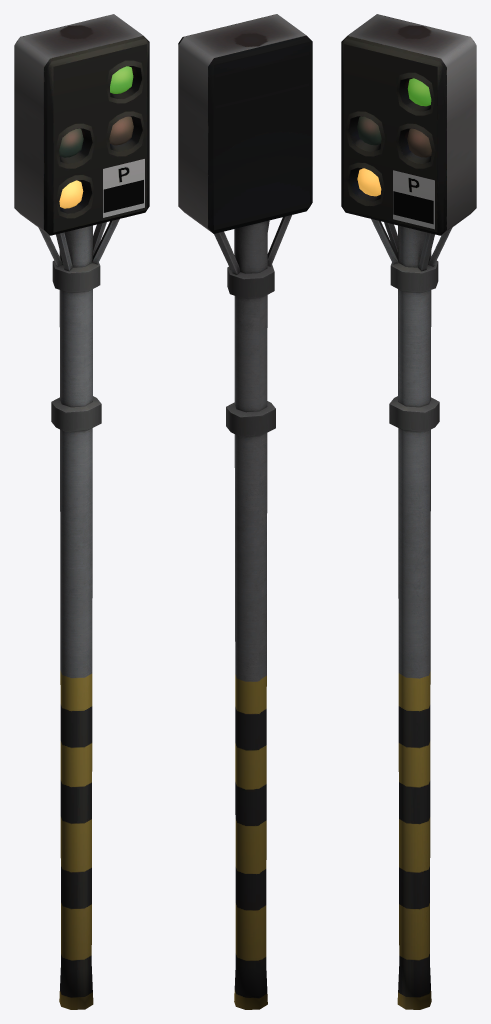
Rendered from SM_TrackLights_DistantOnly.FBX.
3 renders of one model, left to right at view 1: azimuth 30°, elevation 25°; view 2: azimuth 210°, elevation 25°; view 3: azimuth 330°, elevation 25°, orthographic.
Visible parts, largest first — view 1: SM_TrackLights_DistantOnly; view 2: SM_TrackLights_DistantOnly; view 3: SM_TrackLights_DistantOnly.
Boxes of the visible parts, left/top/right/bottom form: SM_TrackLights_DistantOnly: left=14, top=14, right=149, bottom=1009; SM_TrackLights_DistantOnly: left=178, top=14, right=312, bottom=1009; SM_TrackLights_DistantOnly: left=341, top=14, right=476, bottom=1009.
Bounding box in the file's own units: 29.41 × 17.83 × 258.
